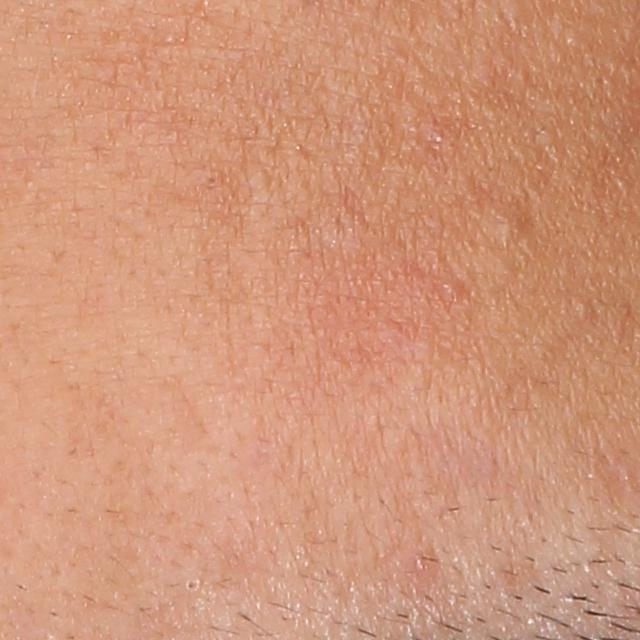comedo: (486, 198, 538, 255), (180, 573, 205, 598), (440, 280, 464, 303), (573, 300, 597, 322)
